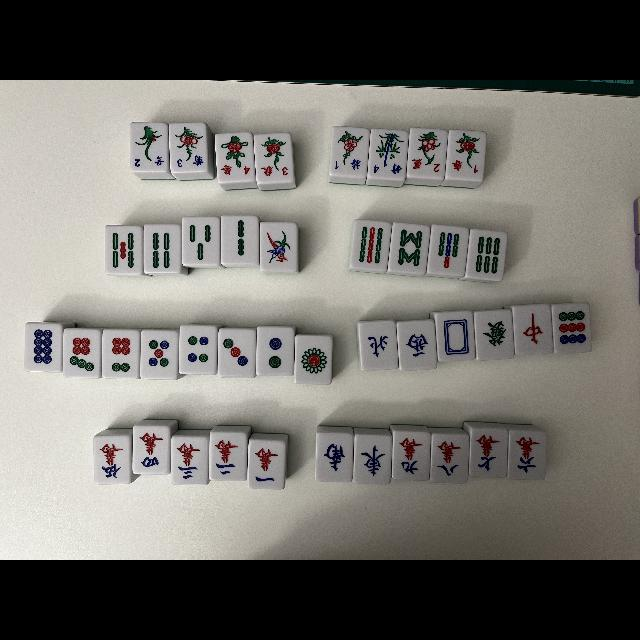b1: (260, 222, 296, 270)
b2: (222, 216, 258, 264)
b3: (182, 217, 220, 265)
b4: (144, 224, 180, 272)
b5: (105, 226, 143, 274)
b6: (466, 230, 506, 280)
b7: (428, 224, 466, 276)
b8: (388, 222, 428, 274)
b9: (349, 220, 389, 270)
c1: (249, 440, 283, 488)
c2: (210, 433, 246, 481)
c3: (171, 437, 207, 485)
c4: (133, 426, 169, 474)
c5: (94, 436, 130, 484)
c6: (509, 430, 545, 480)
c7: (469, 428, 506, 478)
c8: (431, 434, 467, 484)
c9: (393, 432, 429, 481)
d1: (295, 336, 331, 384)
d2: (257, 327, 293, 375)
d3: (218, 329, 254, 377)
d4: (179, 325, 215, 373)
d5: (141, 331, 177, 379)
d6: (102, 330, 140, 378)
d7: (64, 329, 100, 377)
d8: (24, 324, 62, 372)
d9: (552, 302, 592, 353)
dg: (474, 310, 514, 360)
dr: (512, 306, 552, 354)
dw: (435, 312, 475, 361)
f1: (329, 158, 367, 176)
f2: (132, 154, 168, 172)
f3: (170, 154, 208, 170)
f4: (369, 160, 405, 178)
s1: (447, 157, 485, 180)
s2: (408, 156, 446, 178)
s3: (254, 164, 294, 182)
s4: (216, 162, 256, 182)
we: (354, 435, 390, 485)
wn: (357, 322, 397, 368)
ws: (316, 434, 352, 482)
ww: (398, 322, 437, 370)
